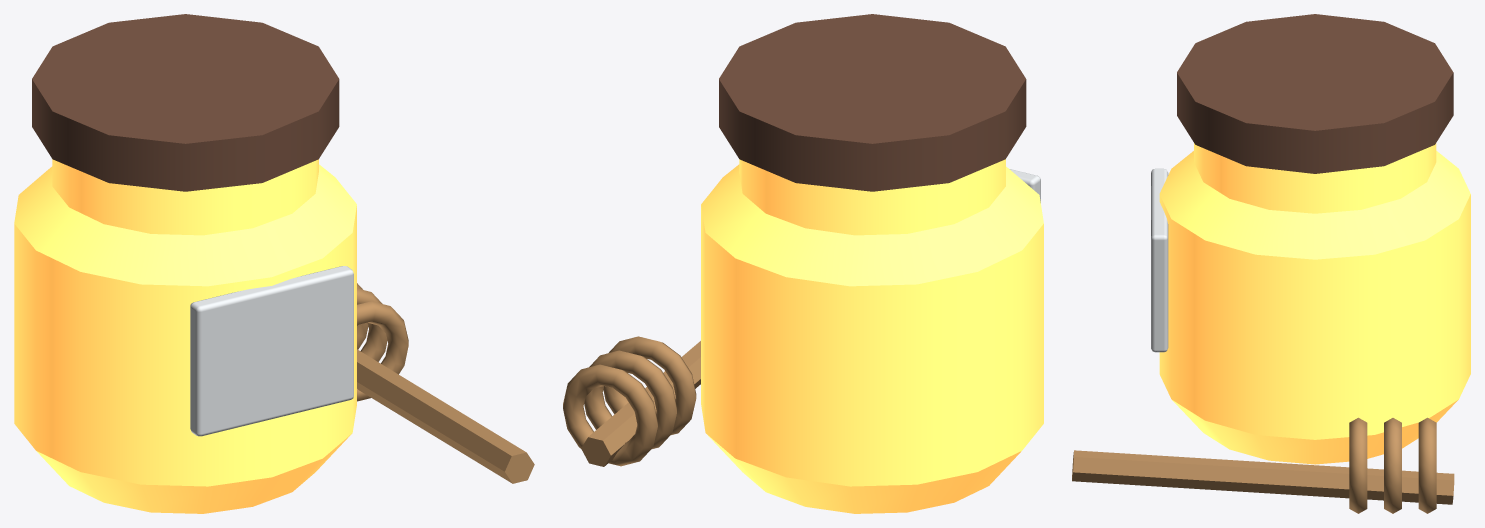
Rendered from honey_jar_dipper.glb.
3 views of the same model, side by side, from view 1: azimuth 30°, elevation 25°; view 2: azimuth 150°, elevation 25°; view 3: azimuth 270°, elevation 25° (orthographic). The views are drawn at different scales.
Parts seen in each view (by area): view 1: honey-jar-and-dipper-amber, honey-jar-and-dipper-wood, honey-jar-and-dipper-snow, honey-jar-and-dipper-oak; view 2: honey-jar-and-dipper-amber, honey-jar-and-dipper-wood, honey-jar-and-dipper-oak; view 3: honey-jar-and-dipper-amber, honey-jar-and-dipper-wood, honey-jar-and-dipper-oak, honey-jar-and-dipper-snow.
Boxes of the visible parts, <box> form: honey-jar-and-dipper-amber: <box>14,159,356,513</box>; honey-jar-and-dipper-wood: <box>32,14,339,191</box>; honey-jar-and-dipper-snow: <box>190,266,353,436</box>; honey-jar-and-dipper-oak: <box>357,283,534,483</box>; honey-jar-and-dipper-amber: <box>701,159,1043,513</box>; honey-jar-and-dipper-wood: <box>719,14,1026,191</box>; honey-jar-and-dipper-oak: <box>563,336,700,466</box>; honey-jar-and-dipper-amber: <box>1159,143,1470,464</box>; honey-jar-and-dipper-wood: <box>1177,14,1453,173</box>; honey-jar-and-dipper-oak: <box>1072,417,1454,513</box>; honey-jar-and-dipper-snow: <box>1151,168,1168,352</box>.
Bounding box in the file's own units: 0.477 × 0.4456 × 0.4611.
